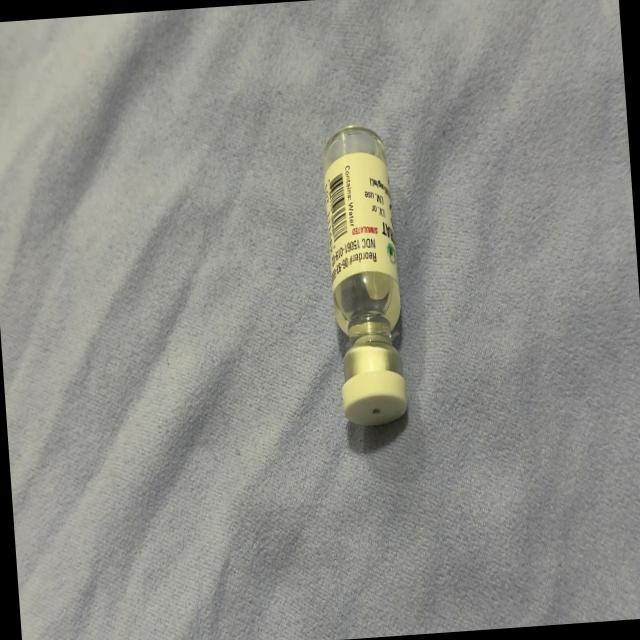fentanl_citrat: (320, 127, 408, 423)
